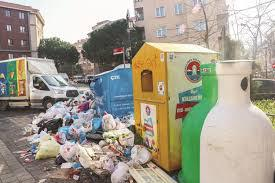Container: (87, 72, 132, 118)
Garbage: (55, 107, 90, 141), (35, 132, 63, 159), (56, 160, 84, 183), (13, 143, 42, 164), (107, 163, 135, 181), (132, 143, 153, 165), (59, 139, 79, 160), (25, 124, 53, 138), (119, 131, 143, 144), (87, 119, 103, 134), (97, 138, 113, 153), (76, 99, 92, 113), (101, 114, 115, 130), (35, 110, 56, 118), (45, 116, 57, 124)
